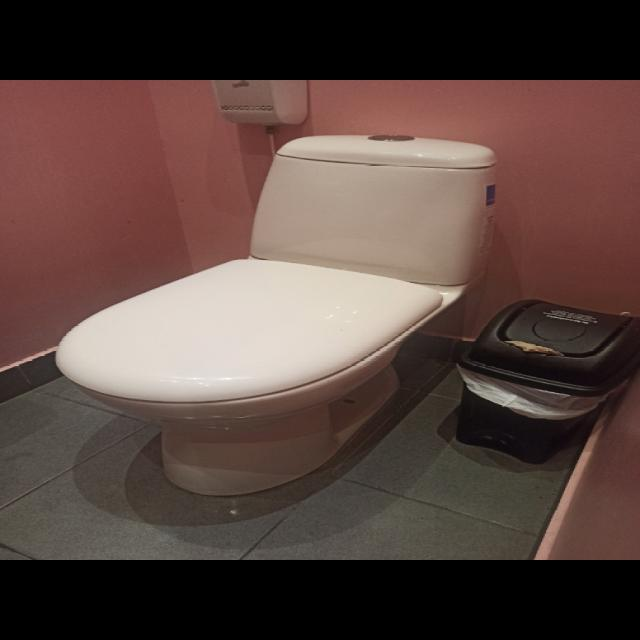toilet: (41, 123, 511, 506)
